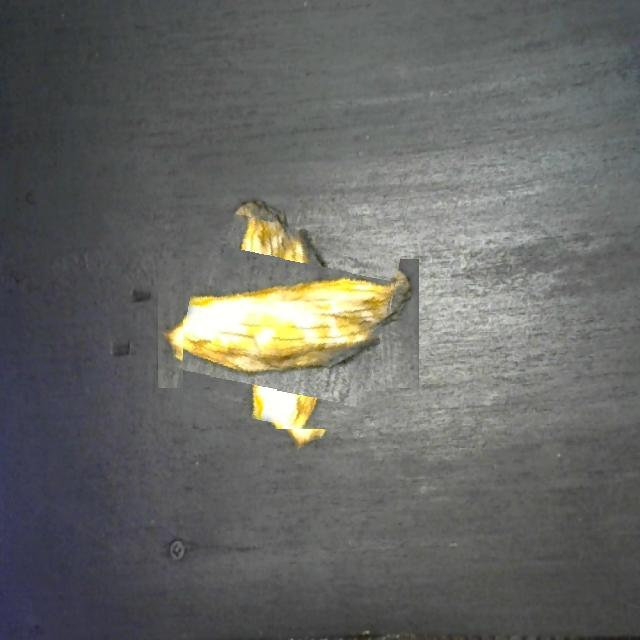biodegradable: (183, 218, 394, 429)
